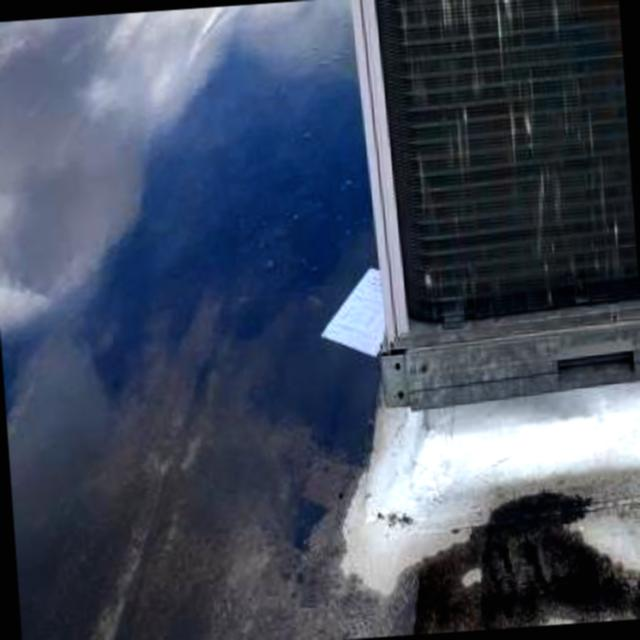RTU: (288, 0, 640, 420)
